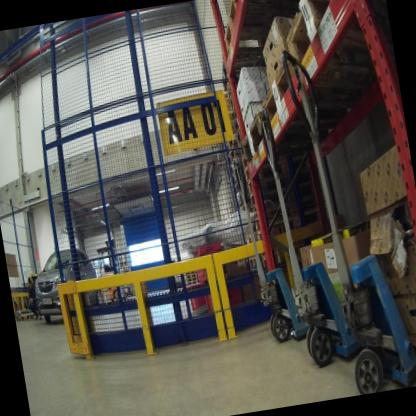forklift: (83, 228, 131, 314)
pallet: (251, 38, 394, 161), (234, 93, 368, 183), (278, 0, 389, 82), (216, 0, 320, 60), (246, 247, 304, 271), (256, 220, 303, 244), (231, 177, 254, 200), (236, 192, 258, 214), (227, 154, 248, 177), (236, 229, 260, 249), (223, 140, 244, 162), (223, 131, 242, 155), (229, 165, 250, 186), (17, 307, 40, 325), (223, 90, 237, 112), (226, 120, 239, 141), (186, 278, 198, 287), (226, 112, 236, 122), (185, 270, 196, 278), (186, 276, 198, 280)
pallet_truck: (274, 27, 416, 396), (244, 97, 357, 375), (220, 125, 310, 349)
small_load_carrier: (187, 236, 231, 288), (202, 271, 245, 320), (180, 275, 209, 323)
